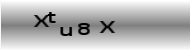8: (76, 22, 91, 36)
X: (33, 13, 50, 29), (99, 20, 115, 35)
t: (47, 10, 57, 23)
u: (58, 25, 73, 37)
